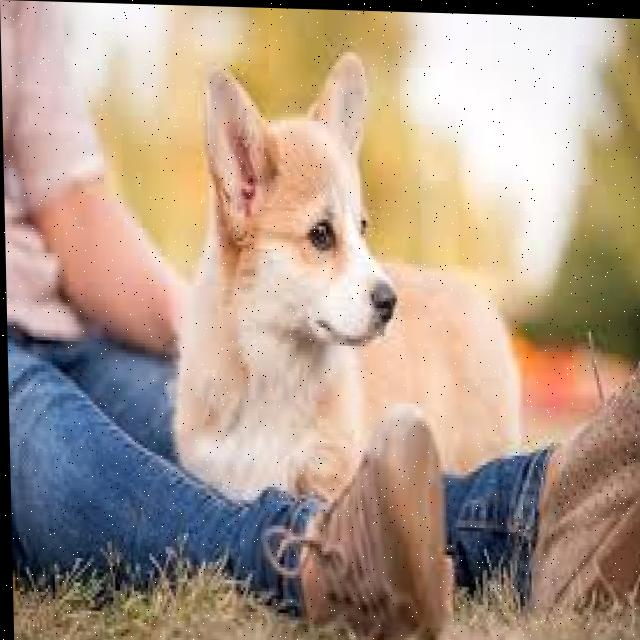CORGI: (170, 51, 521, 504)
